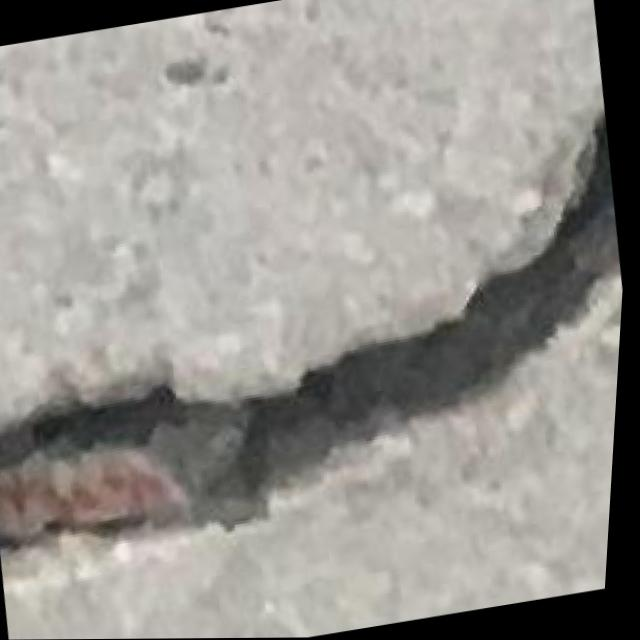Crack: (0, 98, 635, 577)
